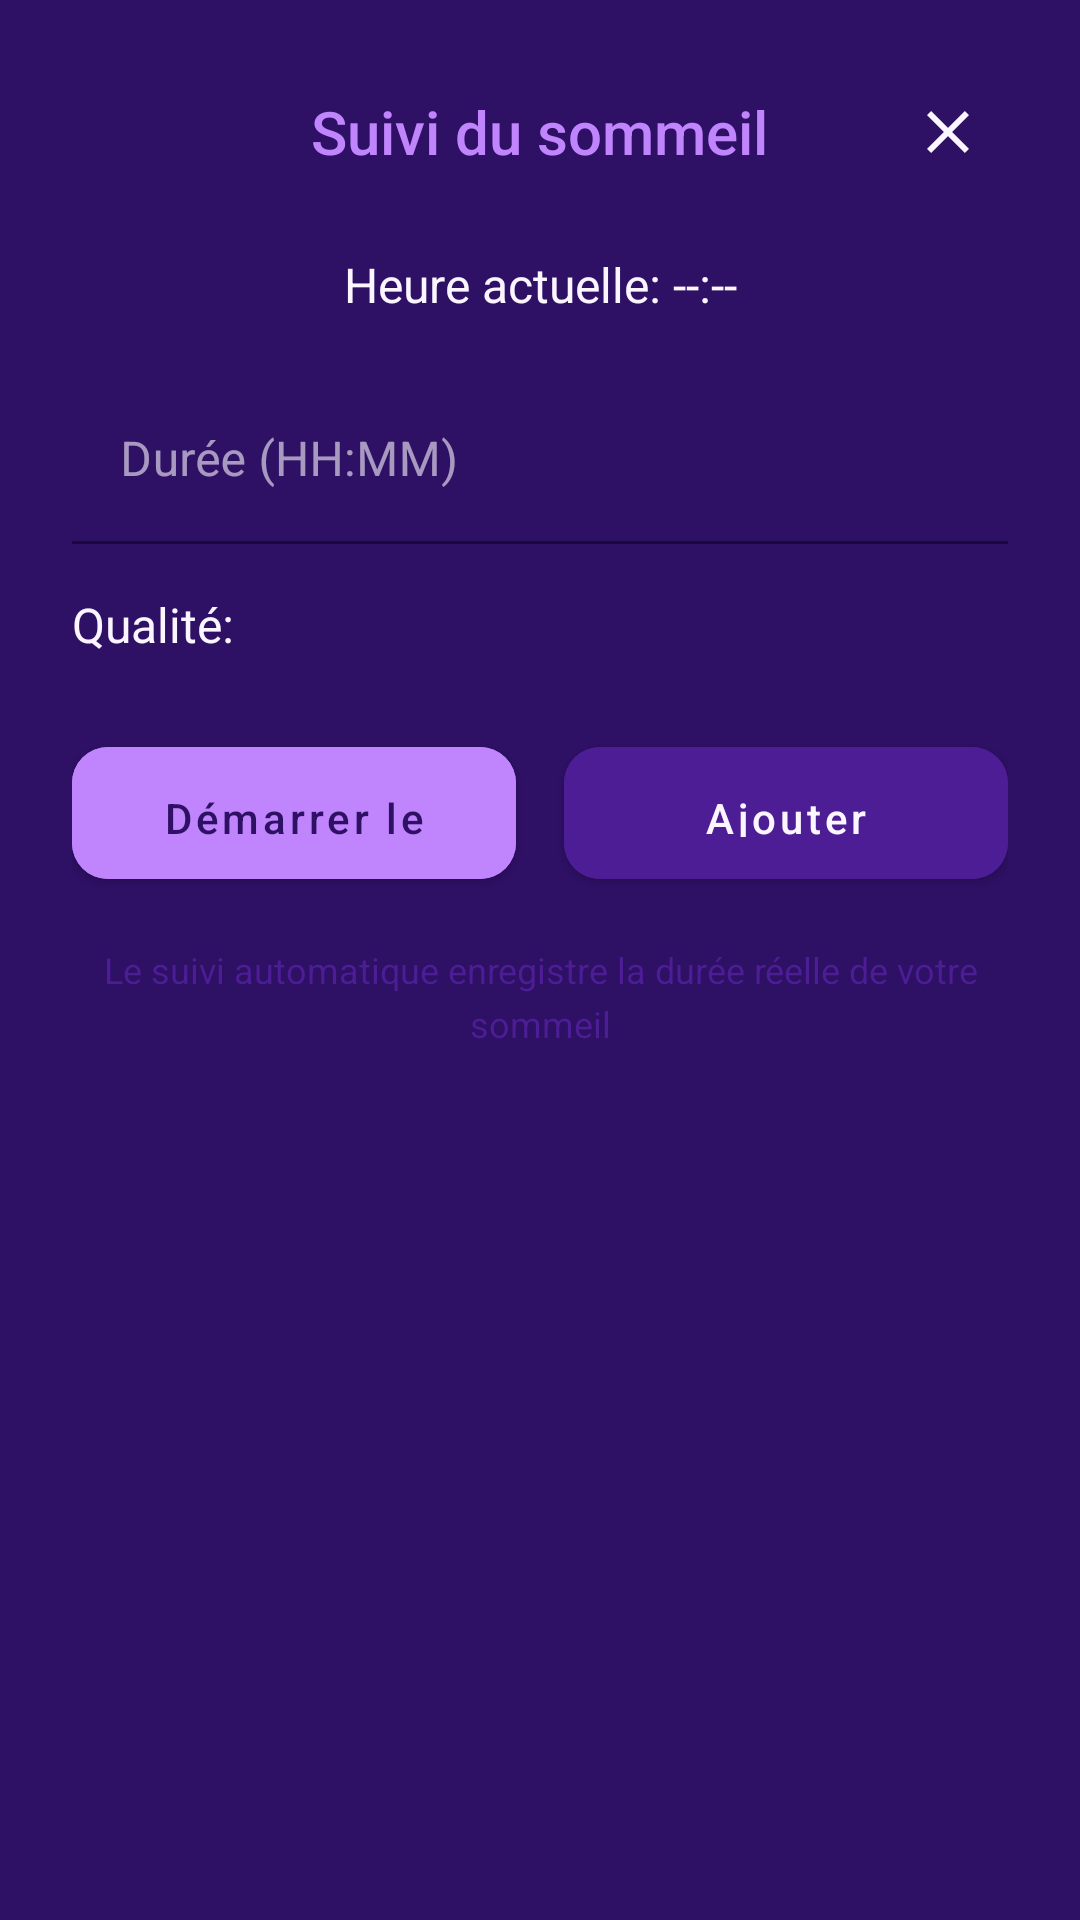

Named icons in this screenshot (1080px×1920px) and their bounding boxes, (x1, y1, x2, y2):
Fermer: (927, 111, 969, 153)
